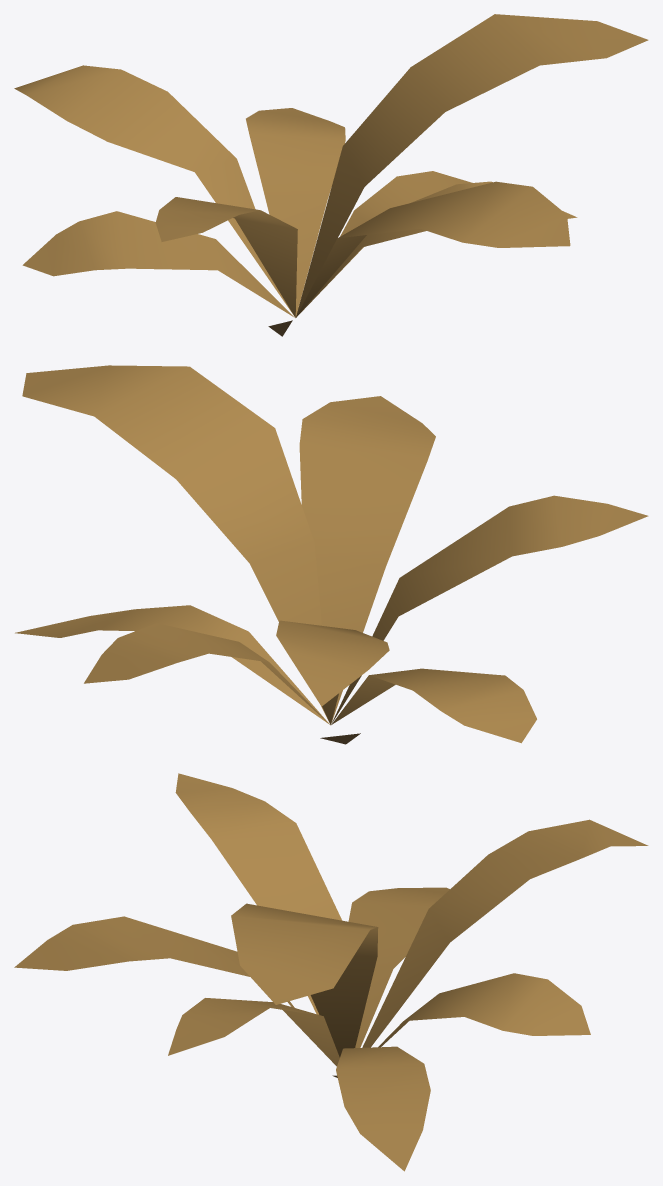
Rendered from Fern 2.fbx.
The picture shows the model from 3 angles, top to bottom: view 1: azimuth 30°, elevation 25°; view 2: azimuth 150°, elevation 25°; view 3: azimuth 270°, elevation 25°; orthographic projection. The views are drawn at different scales.
Visible parts, largest first — view 1: Fern_2; view 2: Fern_2; view 3: Fern_2.
Part boxes in pixels (box(x1,y1,x2,y2)): Fern_2: box(14, 14, 648, 336); Fern_2: box(15, 365, 648, 744); Fern_2: box(14, 773, 648, 1171).
Bounding box in the file's own units: 2.28 × 1.03 × 2.22.
